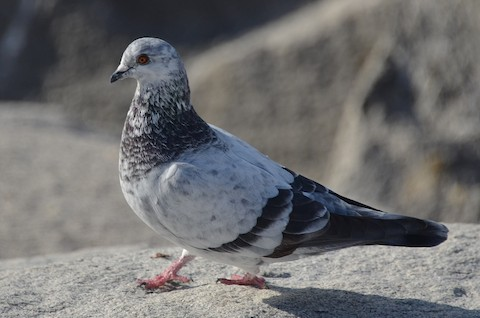pigeon: (100, 35, 453, 295)
